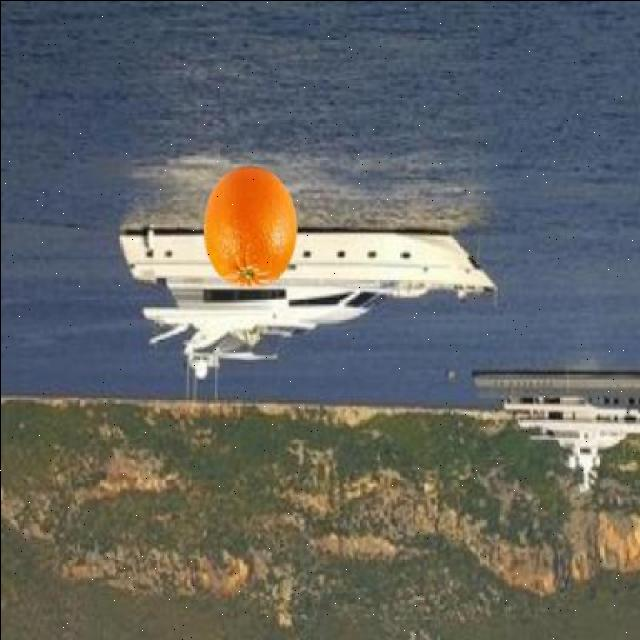Orange: (202, 165, 300, 289)
